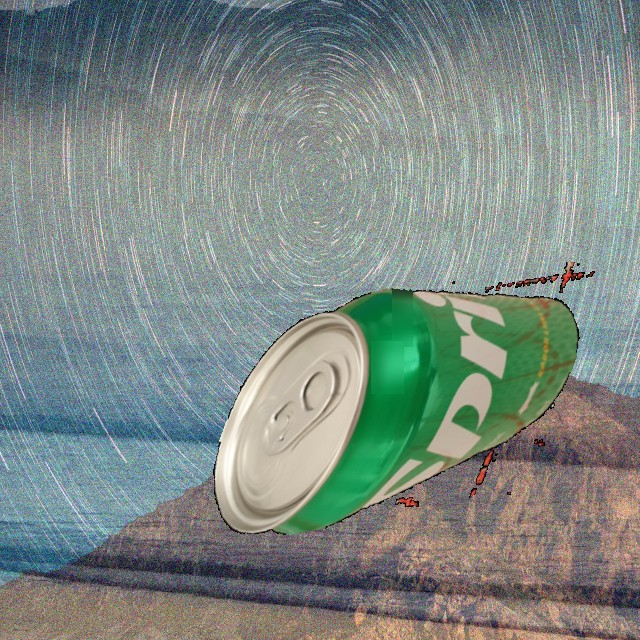sprite: (176, 262, 618, 546)
